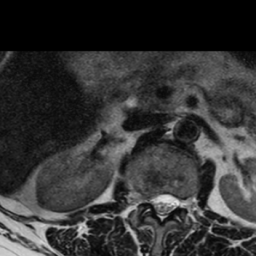CCS_normal: (158, 188, 166, 225)
LFS_normal: (178, 190, 187, 215)
LLS_normal: (166, 188, 177, 216)
RFS_normal: (140, 188, 149, 209)
RLS_normal: (149, 189, 158, 219)
